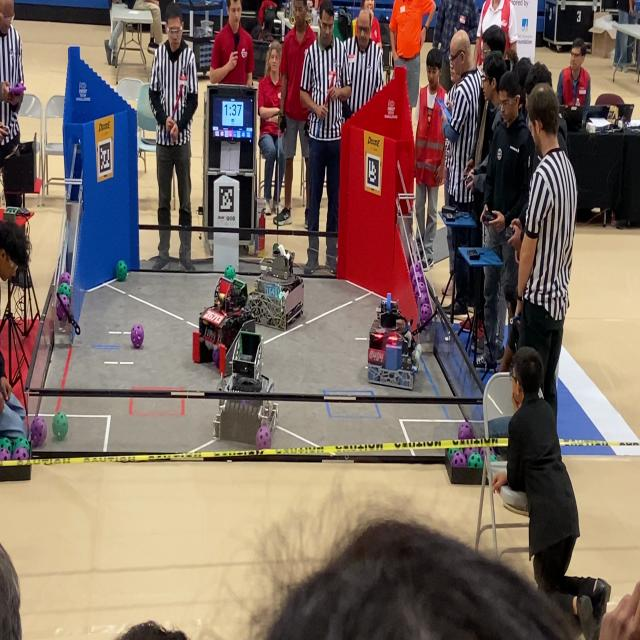artifact_green: (29, 416, 47, 448), (52, 413, 68, 440), (467, 452, 484, 468), (451, 450, 466, 467), (116, 261, 128, 281), (14, 438, 30, 451), (0, 438, 13, 453), (58, 283, 71, 297), (224, 265, 236, 280), (464, 447, 479, 459), (448, 448, 462, 460), (0, 448, 11, 461), (59, 272, 70, 284), (480, 448, 486, 460), (272, 243, 279, 253), (491, 454, 498, 462)
artifact_purple: (31, 416, 46, 447), (256, 426, 271, 450), (57, 295, 70, 320), (131, 324, 144, 349), (458, 422, 475, 439), (451, 451, 466, 467), (468, 453, 483, 468), (12, 447, 29, 460), (420, 303, 431, 322), (420, 305, 429, 325), (464, 447, 478, 458), (410, 264, 421, 278), (412, 262, 422, 277), (410, 269, 419, 285), (0, 448, 11, 461), (59, 272, 70, 285), (213, 348, 220, 367), (418, 280, 426, 295), (418, 274, 426, 289), (411, 272, 418, 287), (414, 284, 420, 300), (411, 279, 418, 290), (480, 448, 485, 459), (241, 400, 247, 406)
